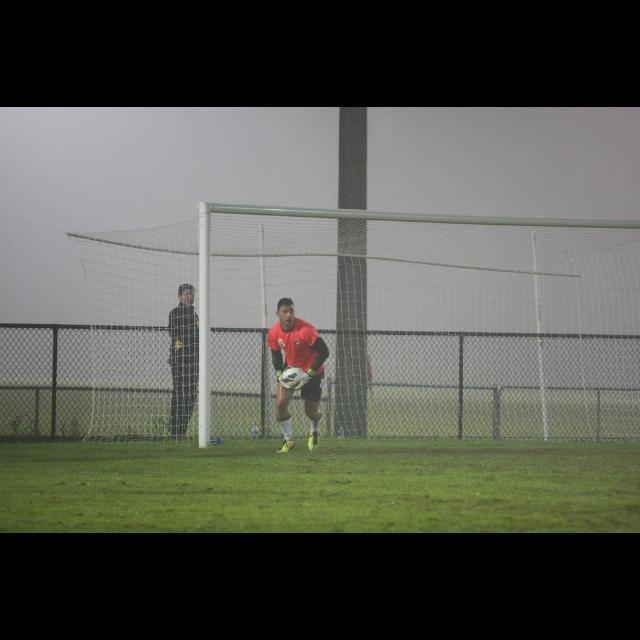Football: (281, 364, 301, 388)
